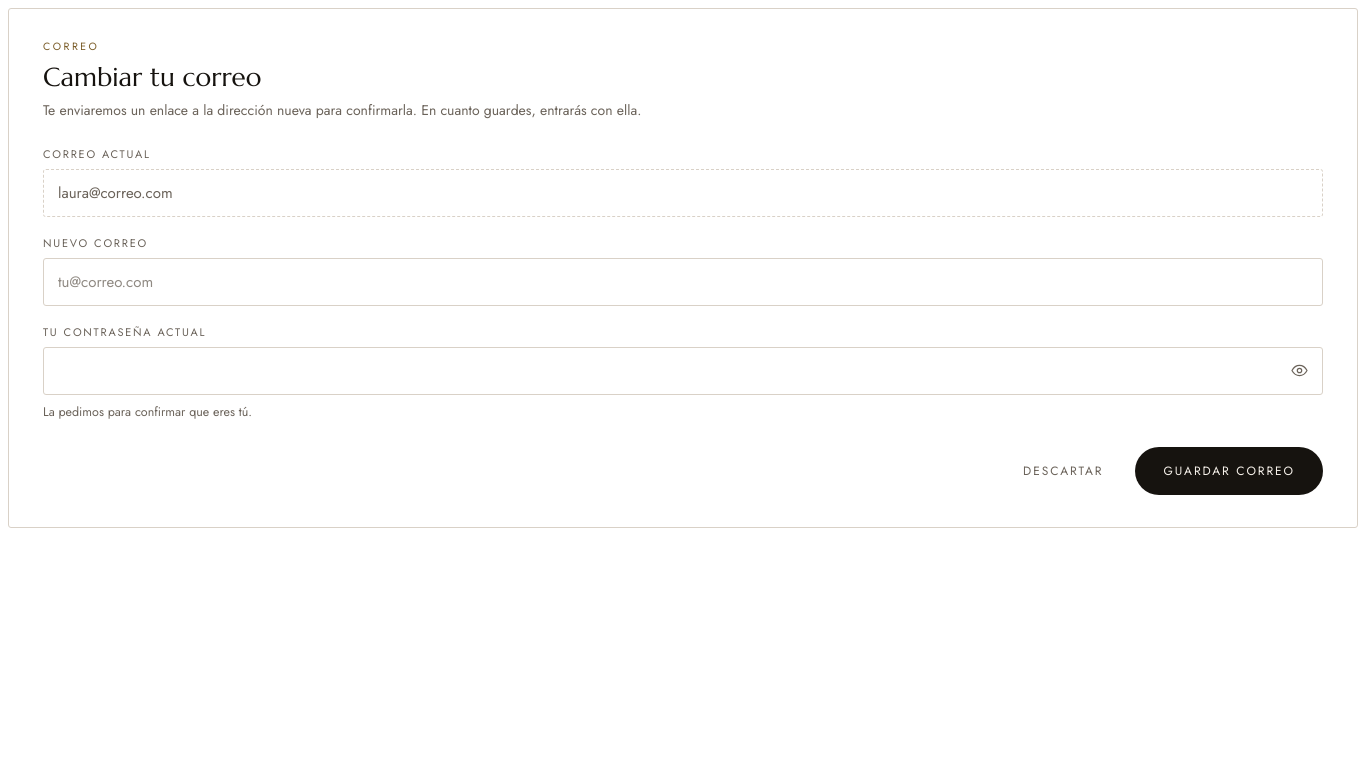
Test: SeccionCorreo · con contraseña › el mismo correo (aunque cambien las mayúsculas) no se envía
Type "LAURA@correo.com" into the field with test id "campo-correo" at point(683, 282), box [43,258,1323,306]
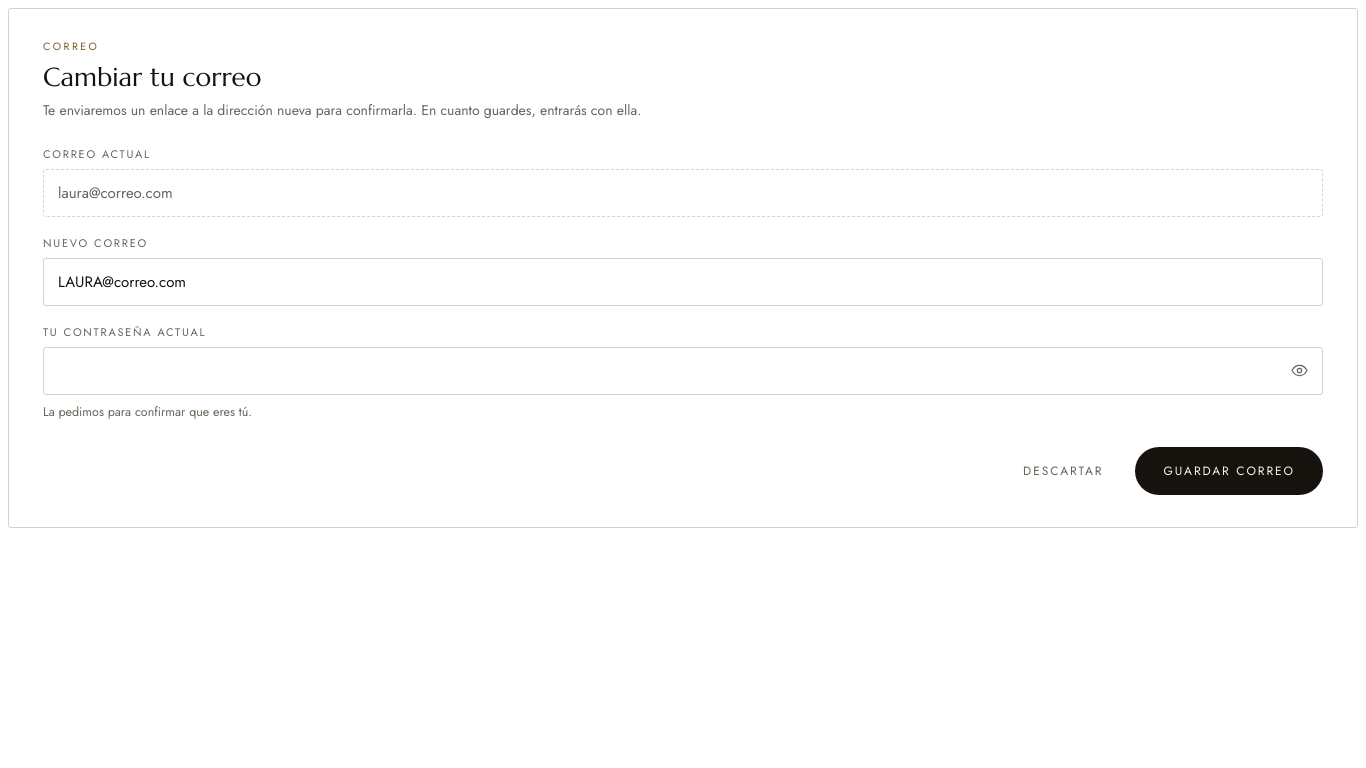
Type "Secreta1" into the password field with test id "campo-clave" at point(683, 371), box [43,347,1323,395]
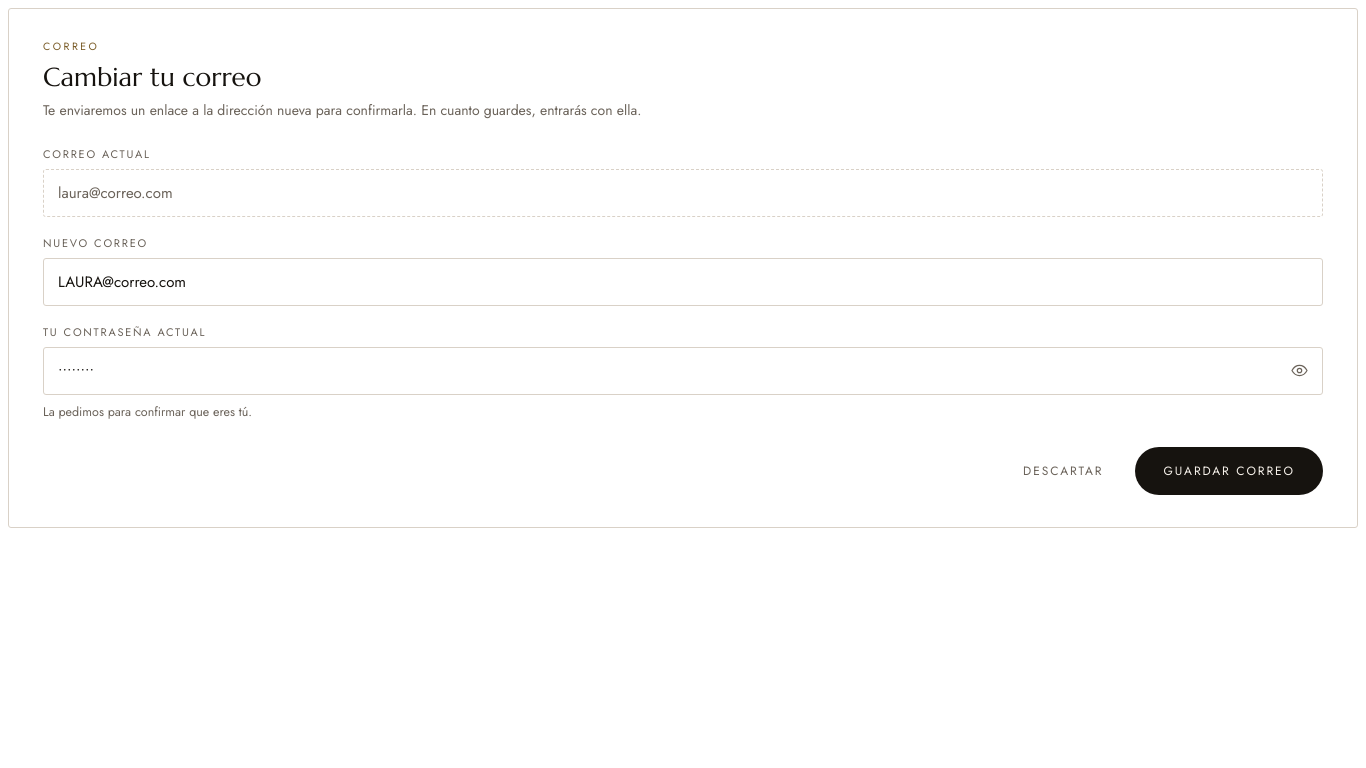
Submit the form, box [43,235,1323,495]
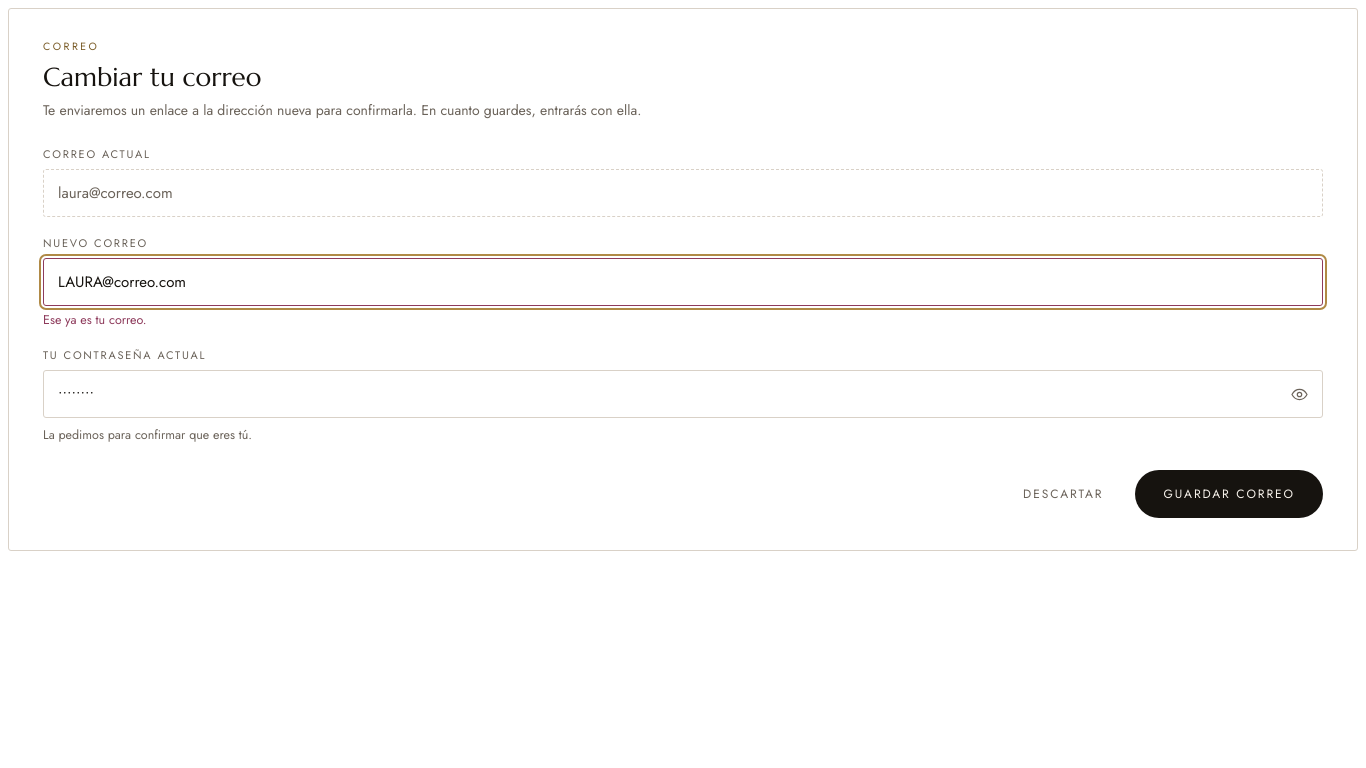
Result: the text with test id "campo-correo-error" reads "Ese ya es tu correo." at [43,311,146,329]
